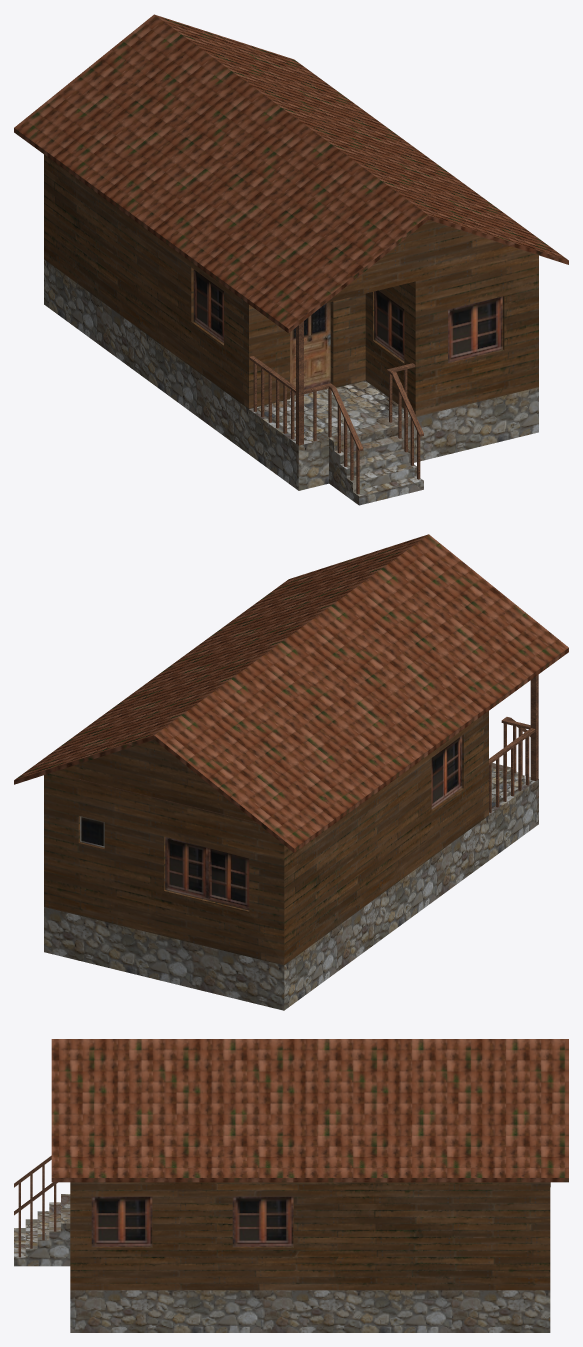
Rendered from house3.glb.
3 views of the same model, one above another, from view 1: azimuth 30°, elevation 25°; view 2: azimuth 150°, elevation 25°; view 3: azimuth 270°, elevation 25° (orthographic). The views are drawn at different scales.
Visible parts, largest first — view 1: house3, house3_windows_window_bathroom.001, house3_door1; view 2: house3, house3_windows_window_bathroom.001; view 3: house3, house3_windows_window_bathroom.001.
Boxes of the visible parts, bbox=[...] form: house3: bbox=[14, 14, 568, 505]; house3_windows_window_bathroom.001: bbox=[191, 267, 504, 363]; house3_door1: bbox=[290, 302, 330, 396]; house3: bbox=[14, 534, 568, 1010]; house3_windows_window_bathroom.001: bbox=[78, 734, 463, 911]; house3: bbox=[14, 1039, 568, 1332]; house3_windows_window_bathroom.001: bbox=[91, 1196, 293, 1247].
Bounding box in the file's own units: 6.48 × 5.6 × 11.8.
1 material, 1 textured.
